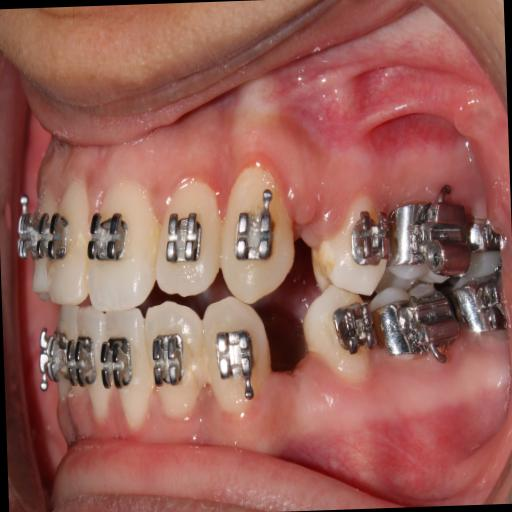correct_brace: (228, 184, 281, 270), (213, 324, 258, 404), (84, 206, 132, 268), (148, 324, 188, 396), (162, 205, 206, 270)
incorrect_brace: (150, 166, 223, 300), (142, 296, 206, 422)
